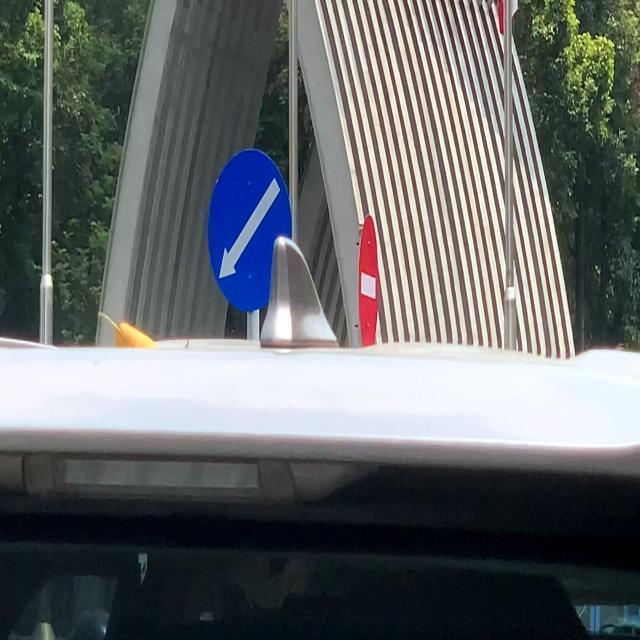102-cam-di-nguoc-chieu: (357, 214, 383, 348)
302a-huong-phai-di-vong-chuong-ngai-vat-1: (206, 149, 291, 315)
